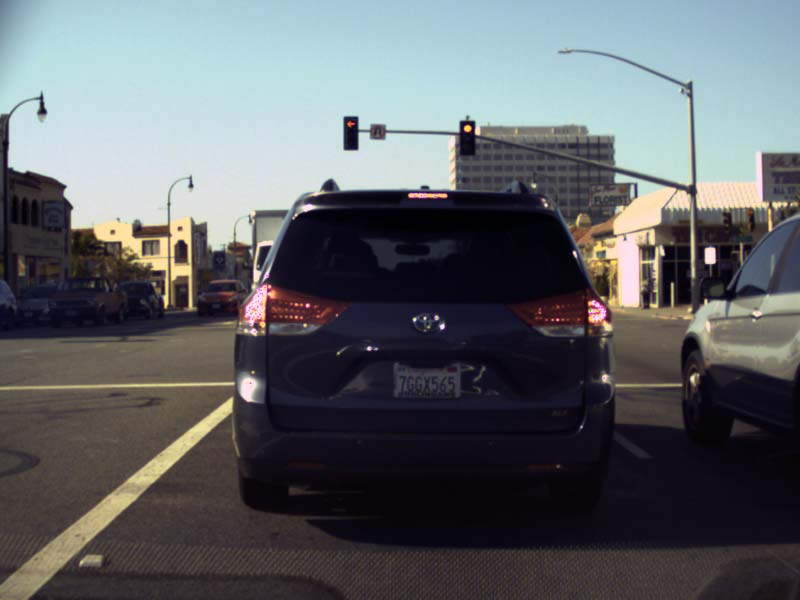Red: (459, 120, 475, 154), (343, 116, 357, 149)
